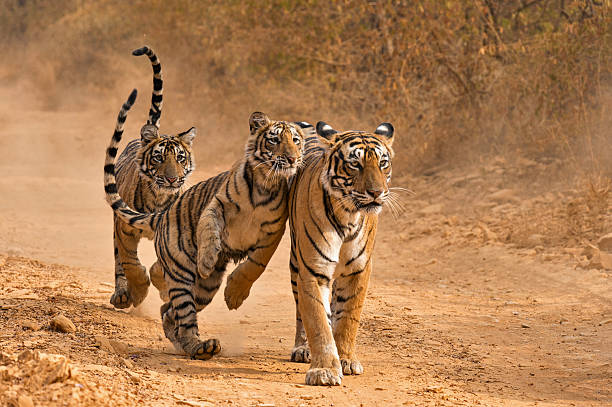tiger: (317, 120, 401, 220), (250, 107, 303, 185), (142, 123, 195, 196)
